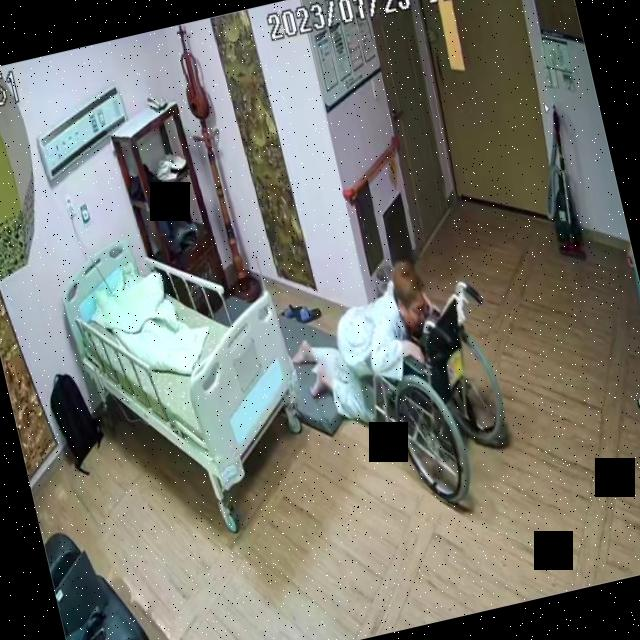fall: (278, 258, 453, 438)
patient: (278, 257, 453, 438)
wheelchair: (348, 279, 526, 518)
